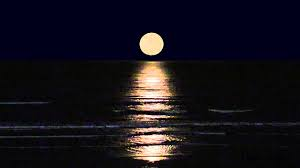moon: (138, 31, 164, 55)
